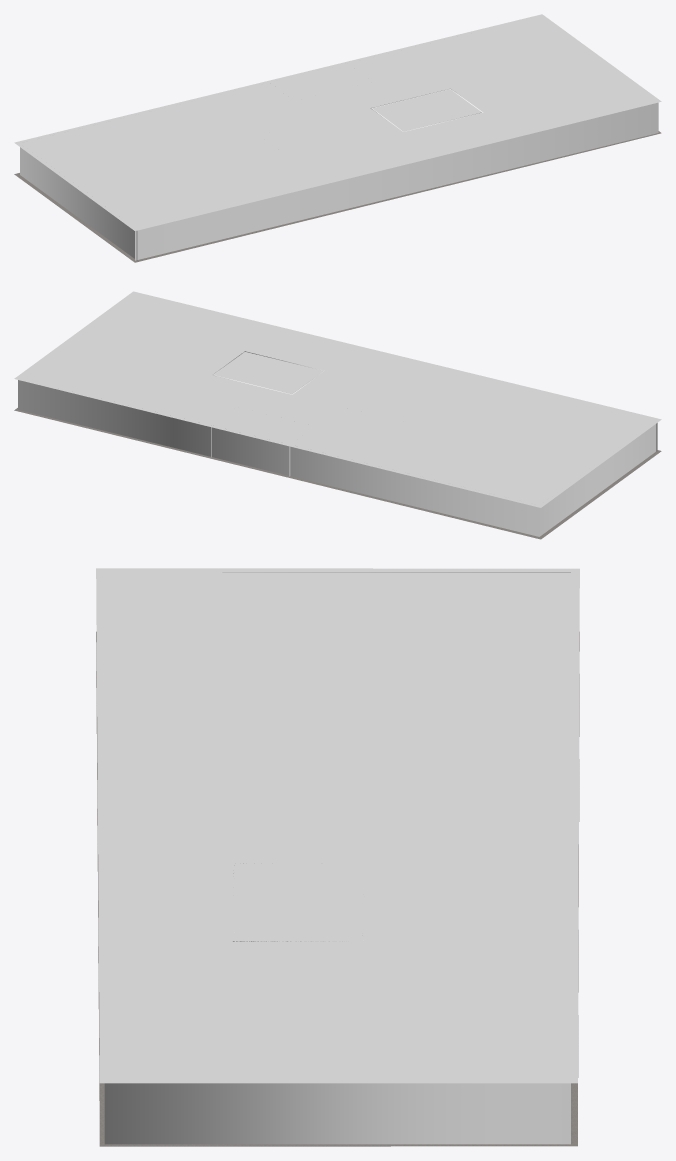
File: testwalls3.glb
The picture shows the model from 3 angles, top to bottom: view 1: azimuth 30°, elevation 25°; view 2: azimuth 150°, elevation 25°; view 3: azimuth 270°, elevation 25°; orthographic projection. The views are drawn at different scales.
Visible parts, largest first — view 1: ceiling, Wall, floor; view 2: ceiling, Wall, floor; view 3: ceiling, Wall, floor.
Part boxes in pixels (box(x1,y1,x2,y2)): ceiling: box(14, 14, 661, 230); Wall: box(20, 102, 658, 260); floor: box(14, 131, 661, 262); ceiling: box(14, 291, 661, 507); Wall: box(18, 380, 657, 536); floor: box(14, 408, 661, 539); ceiling: box(96, 568, 579, 1083); Wall: box(104, 572, 570, 1144); floor: box(96, 631, 579, 1146).
Size of the model in its own units: 62.97 by 3.66 by 25.
16 materials, 2 textured.
